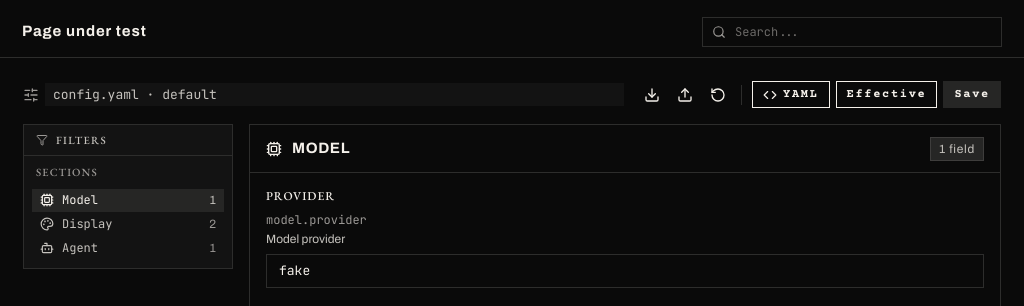
Test: config form › searches keys, labels and descriptions across sections
The width and height of the screenshot is (1024, 306).
(page scrolled)
Expected: the field named "model.provider" is shown, x1=266 y1=254 x2=984 y2=288
Type "turn" into the search field with placeholder "Search..." at (852, 32), box x1=702 y1=16 x2=1002 y2=46
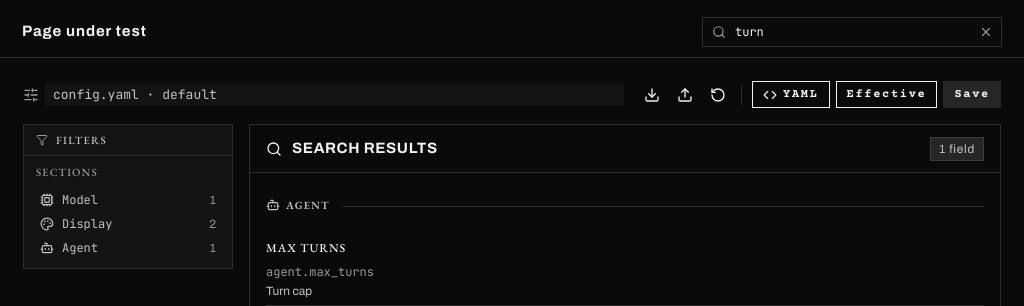
Now the heading "Search results" is shown, box x1=292 y1=140 x2=438 y2=156
Now the text labelled "model.provider" is gone
Replace the text in the search field named "Search settings" with "bell" at (852, 32), box x1=702 y1=16 x2=1002 y2=46
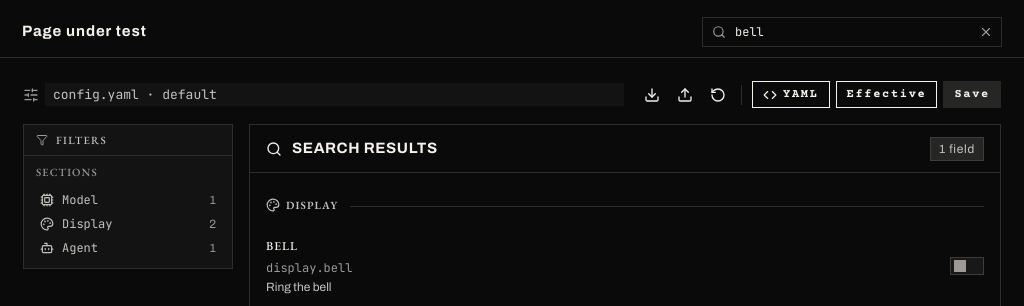
Now the switch named "display.bell" is shown, box x1=950 y1=257 x2=984 y2=275
Replace the text in the search field named "Search settings" with "nothing-like-this" at (852, 32), box x1=702 y1=16 x2=1002 y2=46
(page scrolled)
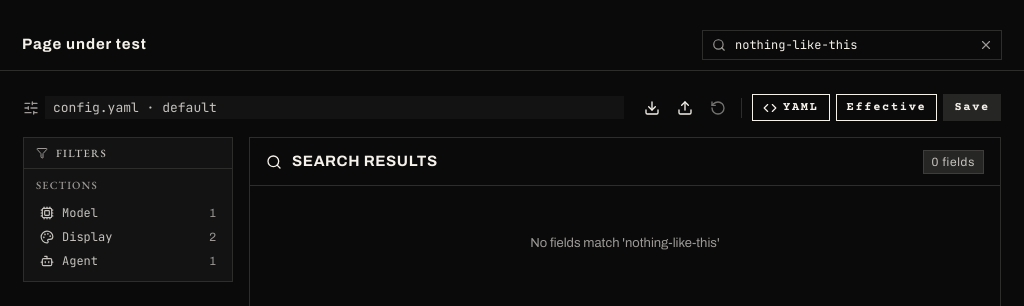
Now the text "No fields match 'nothing-like-this'" is shown, box x1=530 y1=236 x2=720 y2=250
Click the button named "Clear search" at (986, 44), box x1=976 y1=34 x2=996 y2=54
(page scrolled)
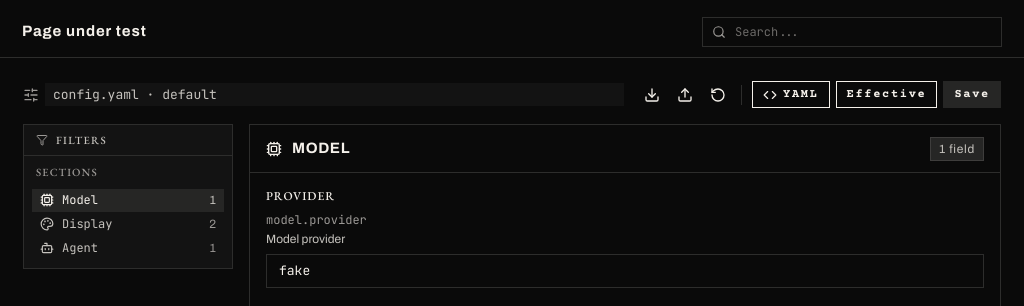
Now the field named "model.provider" is shown, box x1=266 y1=254 x2=984 y2=288
